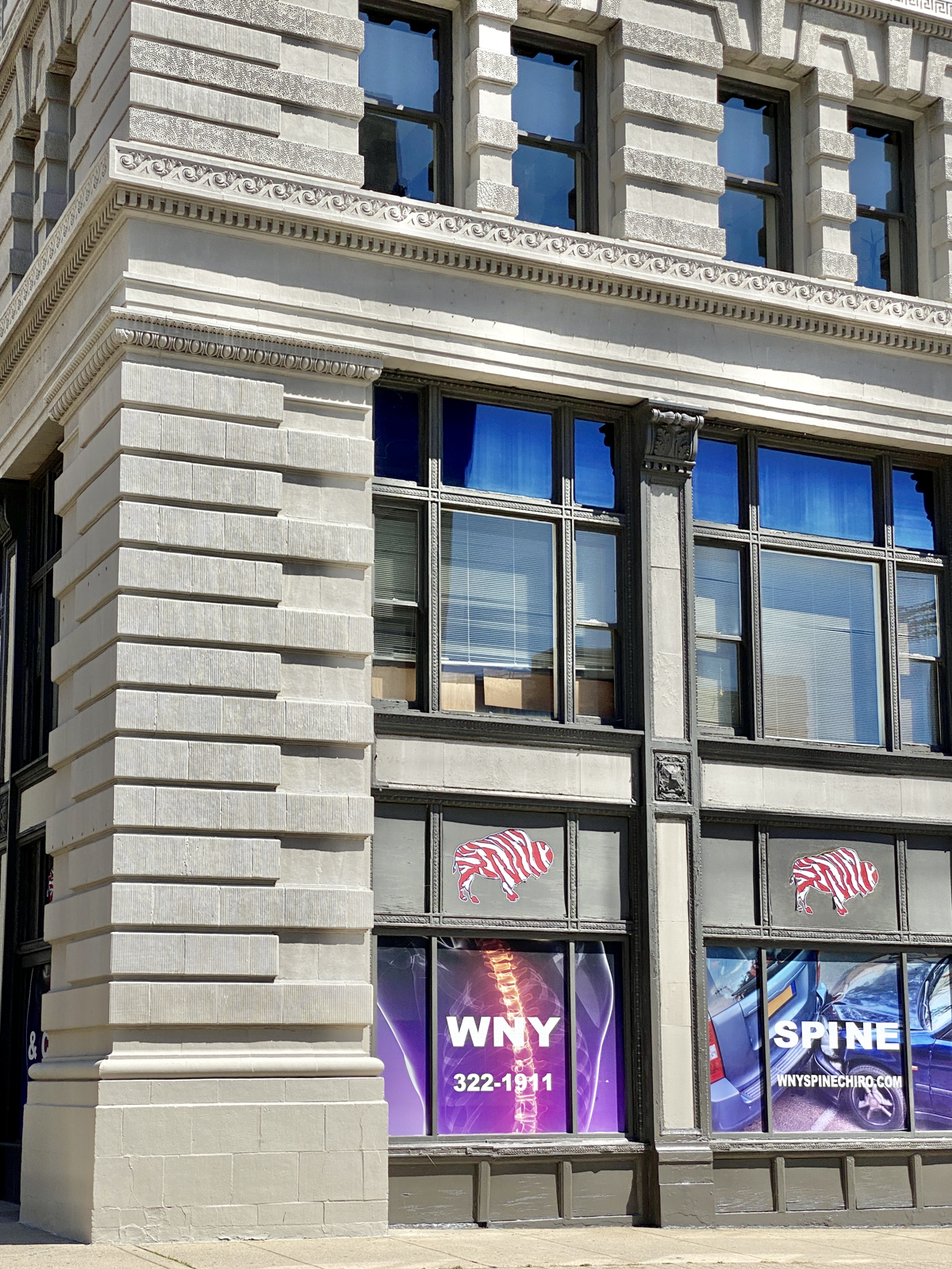fachada: (8, 0, 952, 1269)
